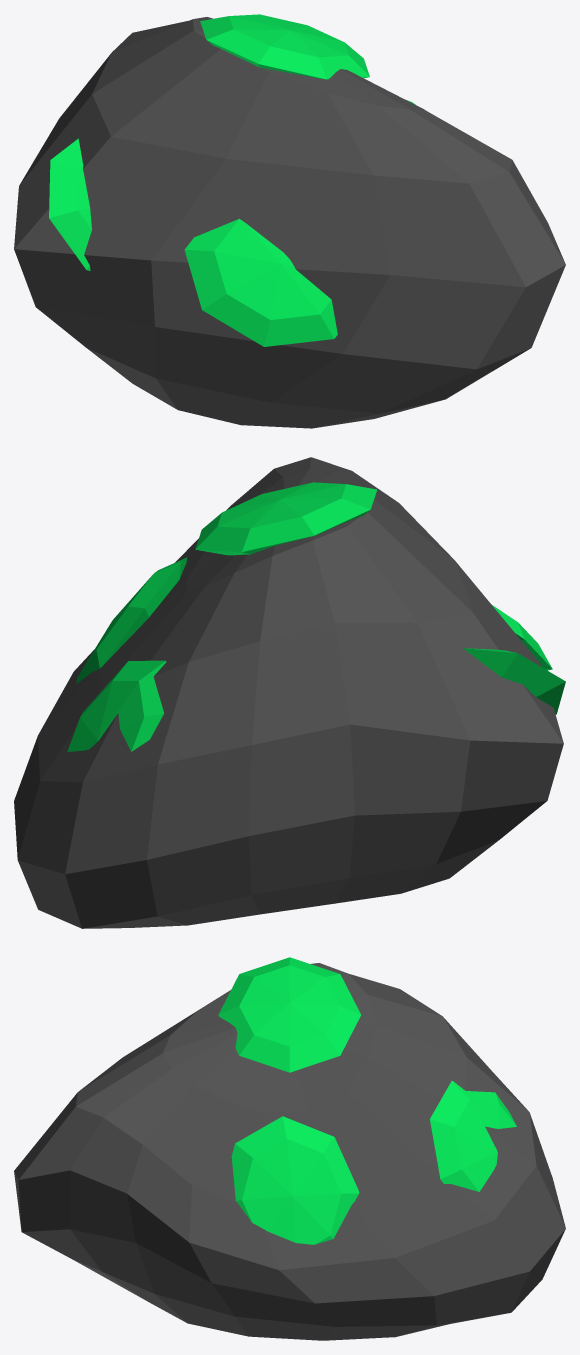
The model's file is EmeraldOre.fbx.
3 views of the same model, one above another, from view 1: azimuth 30°, elevation 25°; view 2: azimuth 150°, elevation 25°; view 3: azimuth 270°, elevation 25° (orthographic). The views are drawn at different scales.
Visible parts, largest first — view 1: EmeraldOre, Sphere.016, Sphere.013, Sphere.017; view 2: EmeraldOre, Sphere.013, Sphere.015, Sphere.014, Sphere.017, Sphere.016; view 3: EmeraldOre, Sphere.014, Sphere.013, Sphere.015.
Part boxes in pixels (x1=…): EmeraldOre: x1=14, y1=17, x2=565, y2=428; Sphere.016: x1=184, y1=218, x2=337, y2=346; Sphere.013: x1=200, y1=14, x2=369, y2=79; Sphere.017: x1=49, y1=138, x2=91, y2=271; EmeraldOre: x1=14, y1=457, x2=563, y2=928; Sphere.013: x1=195, y1=482, x2=376, y2=555; Sphere.015: x1=67, y1=660, x2=166, y2=751; Sphere.014: x1=76, y1=557, x2=187, y2=683; Sphere.017: x1=463, y1=648, x2=565, y2=714; Sphere.016: x1=491, y1=604, x2=552, y2=670; EmeraldOre: x1=14, y1=963, x2=565, y2=1340; Sphere.014: x1=231, y1=1116, x2=359, y2=1244; Sphere.013: x1=218, y1=957, x2=360, y2=1072; Sphere.015: x1=430, y1=1081, x2=516, y2=1191.
Size of the model in its own units: 2.18 by 1.59 by 2.57.
